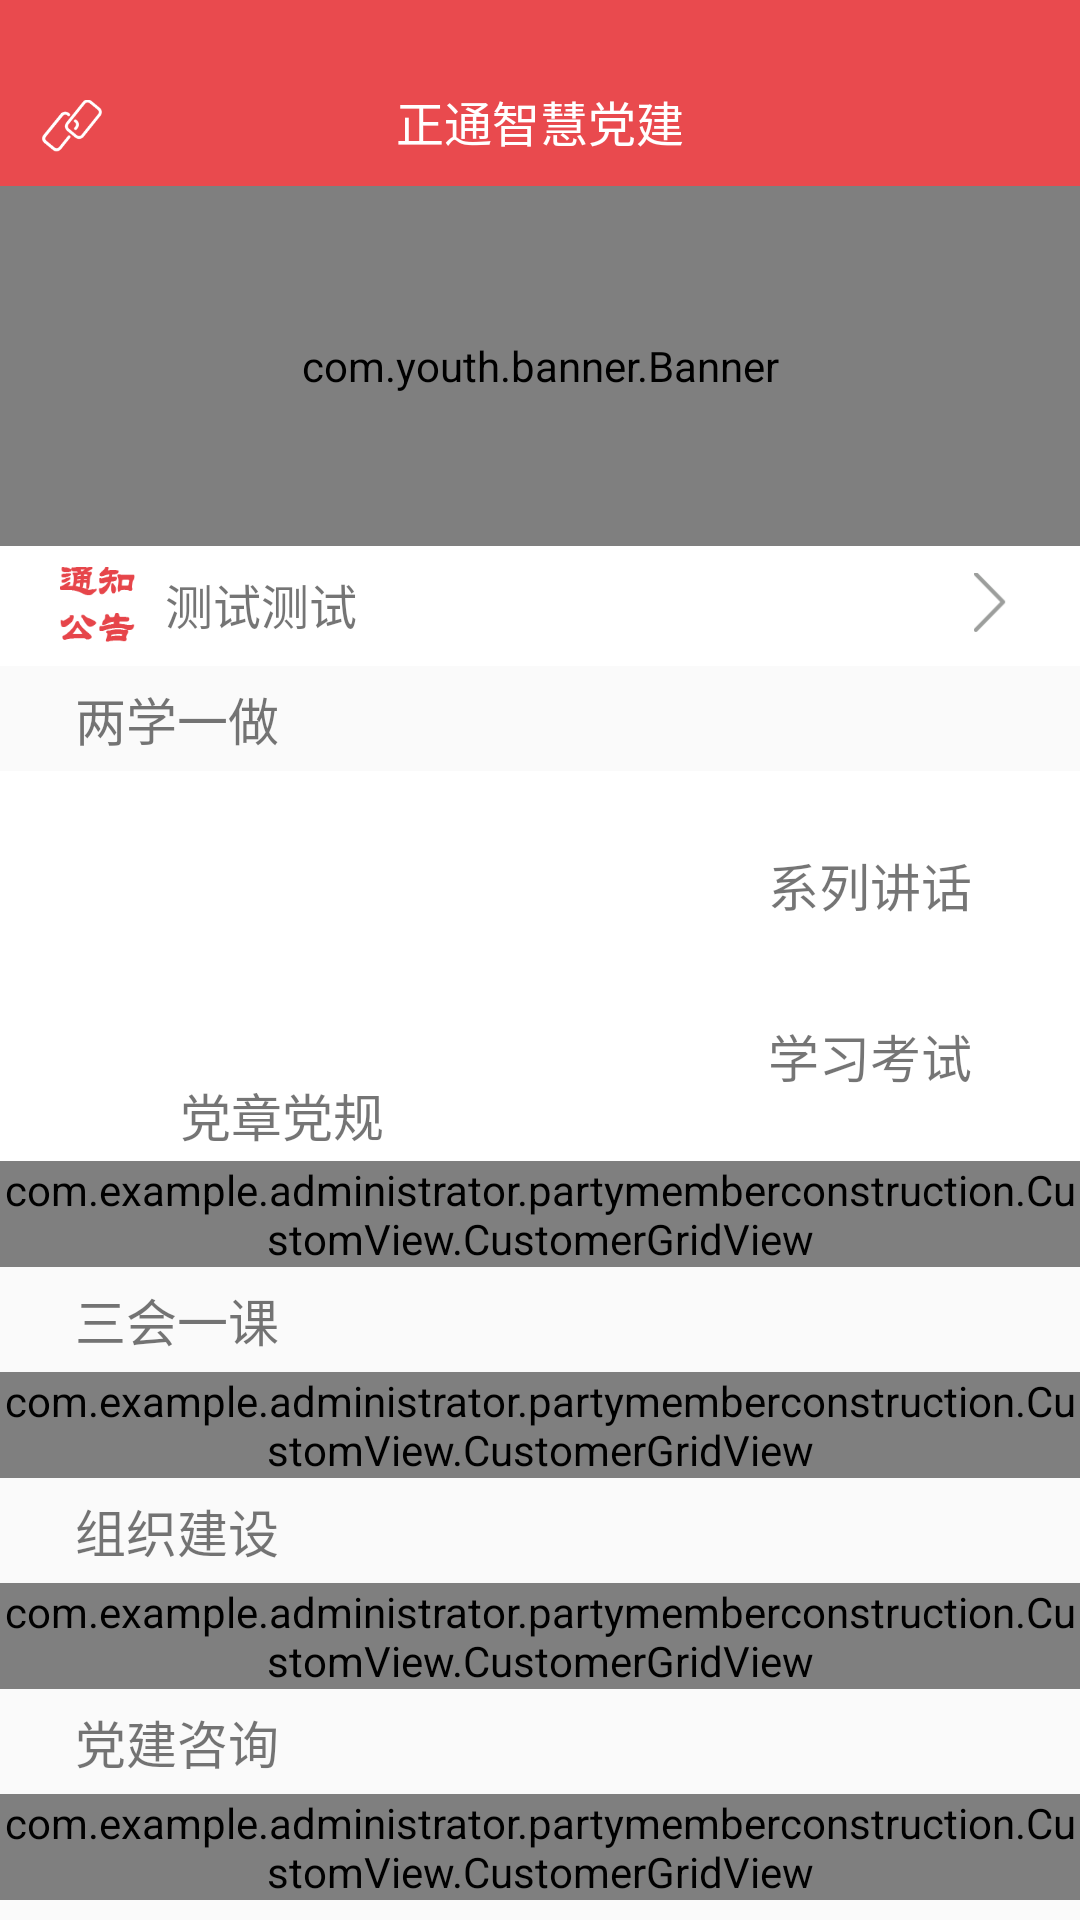

Screen size 1080×1920. Icon name, then its center in pixels as point (x, y):
link: point (72, 126)
